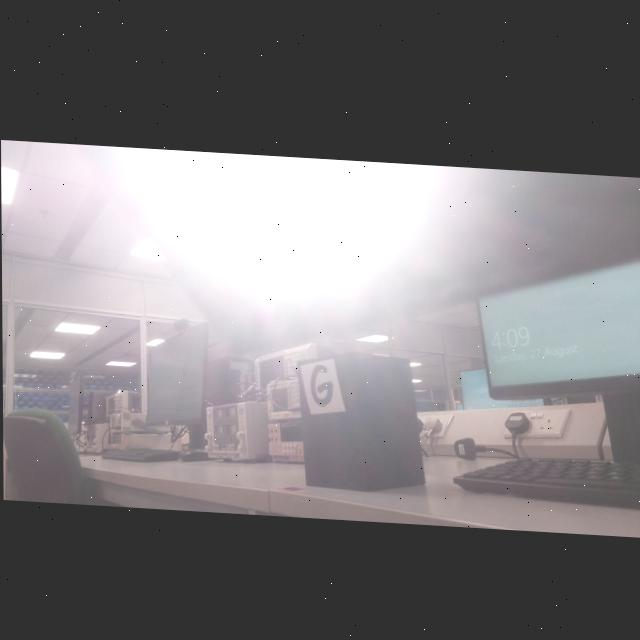G: (311, 361, 332, 402)
